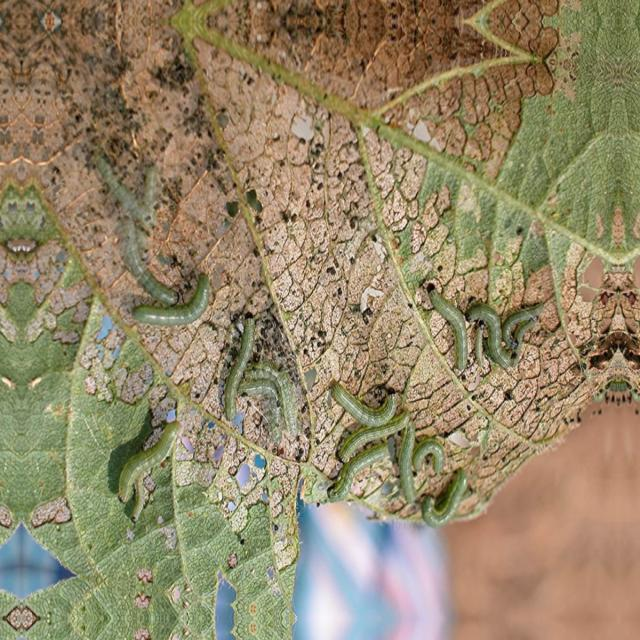Armyworm: (93, 412, 196, 519), (132, 274, 229, 340), (211, 311, 262, 409), (334, 370, 412, 431), (413, 467, 476, 536), (432, 283, 473, 384), (507, 285, 547, 386), (471, 296, 512, 376), (412, 424, 454, 500), (333, 417, 403, 460)
